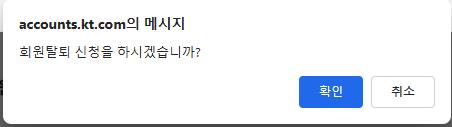button: (371, 76, 435, 108), (297, 77, 363, 108)
